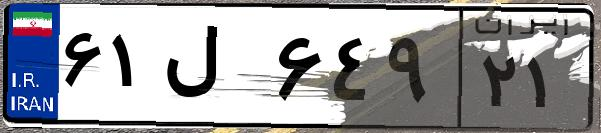1: (525, 38, 570, 115), (110, 28, 158, 98)
2: (475, 38, 525, 113)
4: (330, 28, 385, 110)
6: (270, 28, 330, 110), (57, 26, 110, 100)
9: (385, 28, 445, 110)
ل: (158, 20, 270, 120)
